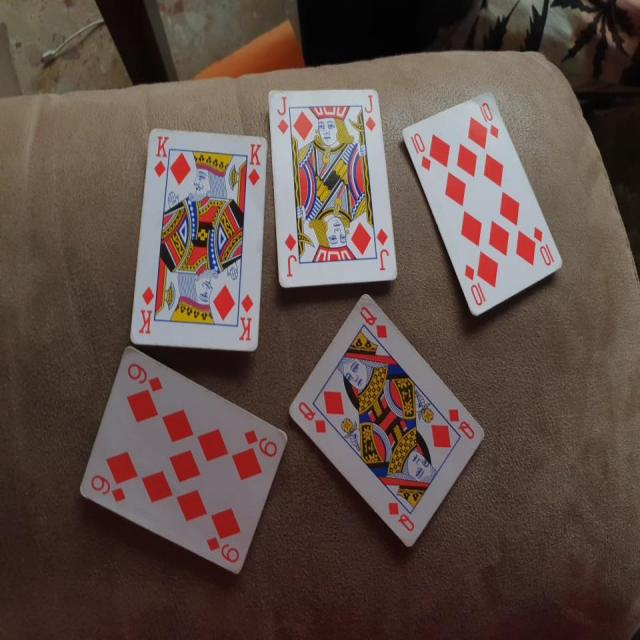10 Diamonds: (398, 89, 563, 318)
9 Diamonds: (78, 347, 287, 580)
J Diamonds: (266, 85, 400, 290)
K Diamonds: (129, 127, 269, 353)
Q Diamonds: (288, 291, 486, 548)
